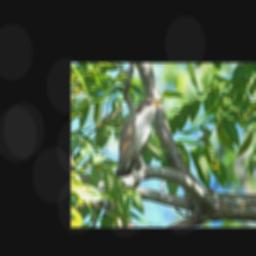Cuckoo: (115, 96, 164, 177)
